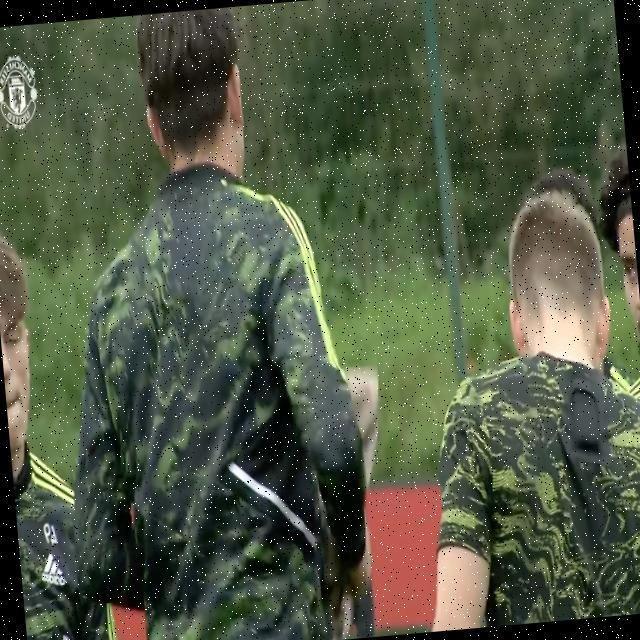Adidas: (37, 548, 66, 590)
